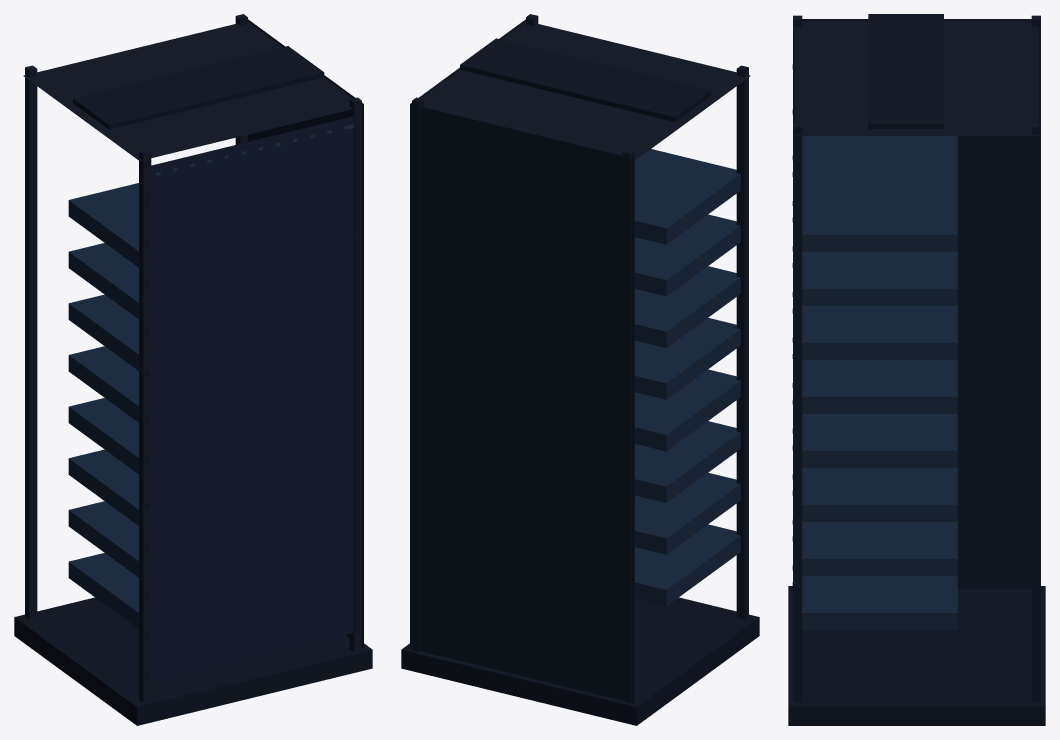
The model's file is server_rack_v02.glb.
3 renders of one model, left to right at view 1: azimuth 30°, elevation 25°; view 2: azimuth 150°, elevation 25°; view 3: azimuth 270°, elevation 25°, orthographic. The views are drawn at different scales.
Visible parts, largest first — view 1: door, units, frame_posts, chassis, plinth, tray; view 2: chassis, units, frame_posts, plinth, tray; view 3: units, chassis, plinth, frame_posts, tray.
Boxes of the visible parts, box(x1,y1,x2,y2) form: door: box(151, 116, 353, 681); units: box(68, 183, 138, 629); frame_posts: box(25, 14, 361, 703); chassis: box(23, 19, 363, 648); plinth: box(14, 597, 372, 725); tray: box(73, 46, 324, 129); chassis: box(410, 19, 750, 703); units: box(635, 149, 740, 606); frame_posts: box(412, 14, 748, 703); plinth: box(401, 597, 759, 725); tray: box(460, 38, 711, 121); units: box(802, 136, 957, 629); chassis: box(795, 19, 1038, 588); plinth: box(788, 586, 1045, 725); frame_posts: box(793, 15, 1040, 701); tray: box(868, 14, 943, 128).
Size of the model in its own units: 1.05 by 2.43 by 0.95.
